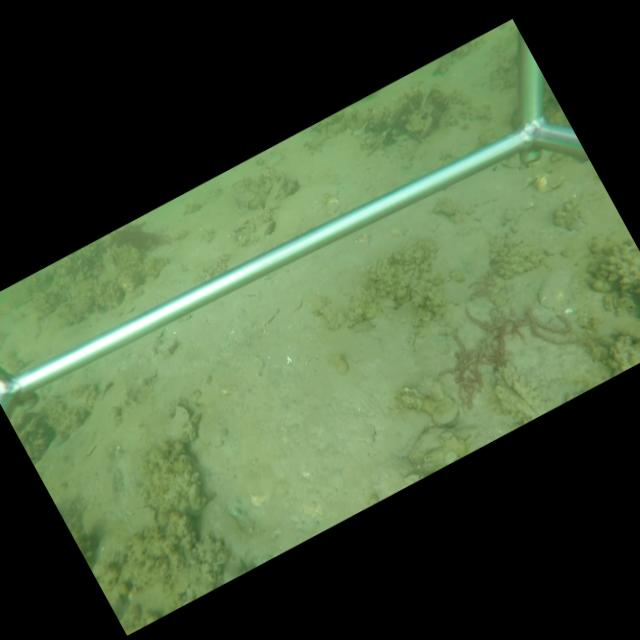Oyster-Closed: (269, 172, 287, 204), (378, 129, 393, 145), (262, 220, 275, 236)
Oyster-Indeterminate: (409, 426, 467, 471), (539, 271, 571, 309), (172, 401, 201, 442)
Oyster-Open: (432, 400, 465, 426)
